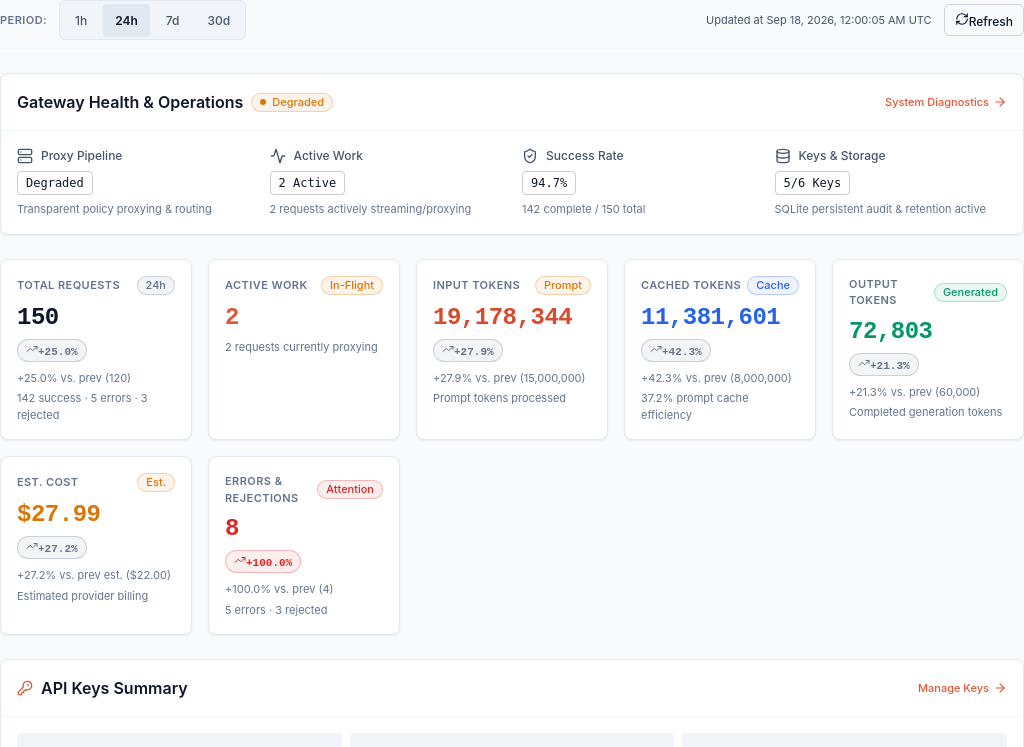
Test: T167 OverviewPage Component and Lifecycle › preserves stale data and displays warning when background refresh fails
Expected: the element with test id "kpi-total-requests" shows "150", [17, 304, 59, 330]
Click the button with test id "overview-refresh-btn" at (984, 20), box [944, 4, 1023, 36]
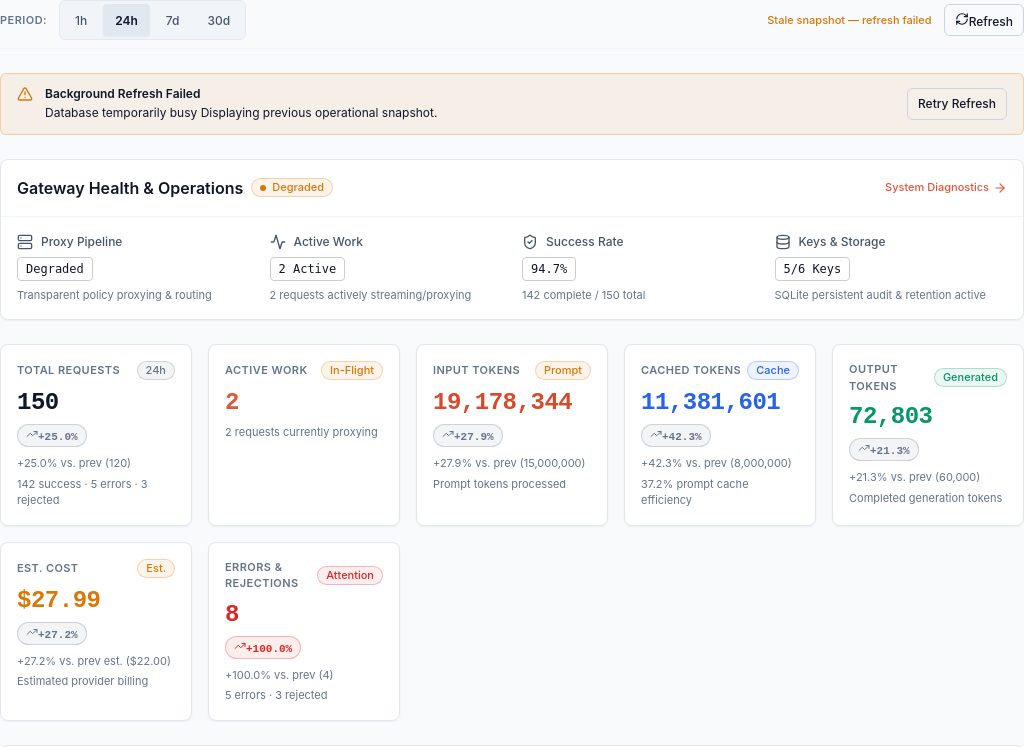
Expected: the element with test id "kpi-total-requests" shows "150", [17, 389, 59, 416]
Now the text "Background Refresh Failed" is shown, box [45, 86, 200, 101]
Now the element with test id "freshness-indicator" reads "Stale snapshot — refresh failed", box [767, 13, 932, 27]
